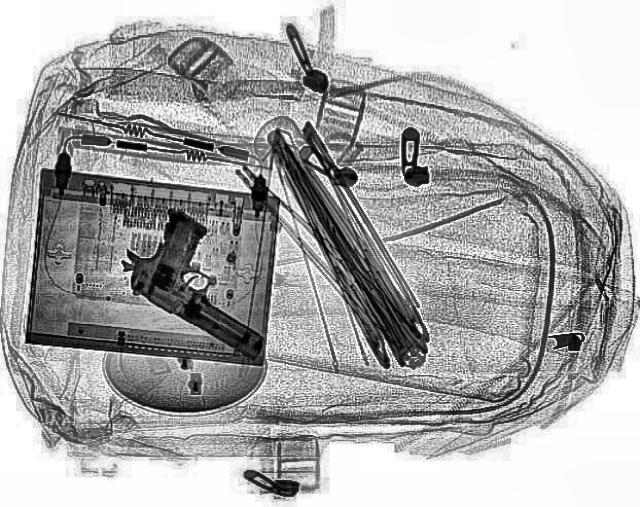Gun: (100, 205, 324, 358)
